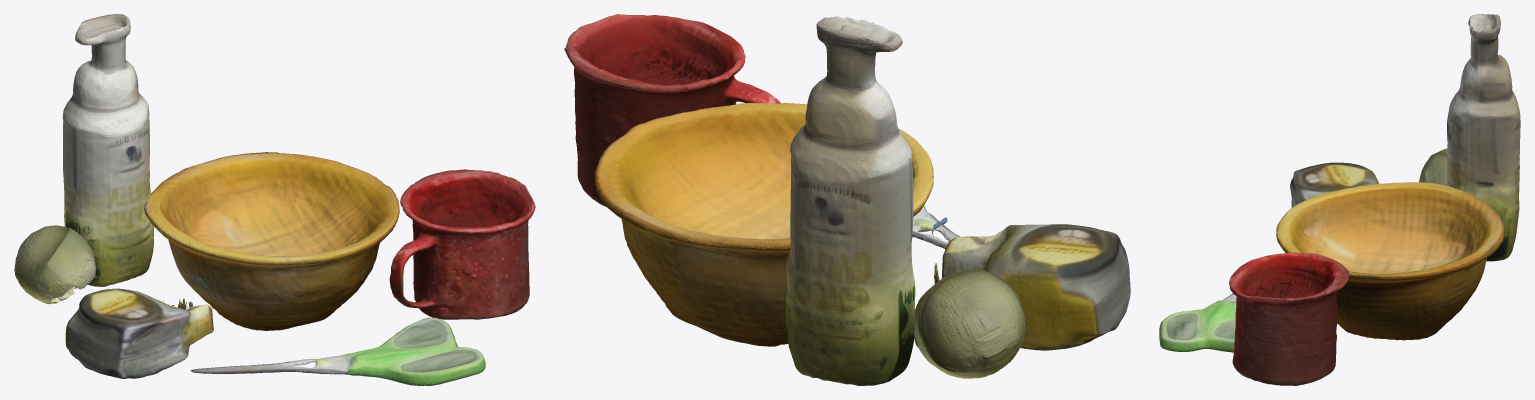
3 views of the same model, side by side, from view 1: azimuth 30°, elevation 25°; view 2: azimuth 150°, elevation 25°; view 3: azimuth 270°, elevation 25° (orthographic). The views are drawn at different scales.
Parts seen in each view (by area): view 1: 2, 1, 0, 5, 3, 4; view 2: 1, 2, 0, 5, 4, 3; view 3: 2, 0, 1, 3, 5, 4.
Boxes of the visible parts, box(x1,y1,x2,y2) form: 2: box(144, 152, 399, 330); 1: box(62, 14, 153, 286); 0: box(389, 169, 535, 319); 5: box(65, 277, 213, 378); 3: box(190, 317, 485, 385); 4: box(14, 225, 96, 304); 1: box(786, 16, 915, 385); 2: box(594, 102, 933, 346); 0: box(564, 14, 780, 206); 5: box(931, 217, 1130, 350); 4: box(912, 269, 1025, 378); 3: box(912, 206, 960, 248); 2: box(1276, 182, 1504, 340); 0: box(1229, 252, 1349, 385); 1: box(1447, 14, 1520, 261); 3: box(1159, 253, 1285, 352); 5: box(1290, 162, 1379, 207); 4: box(1419, 148, 1447, 184).
Size of the model in its own units: 0.312 by 0.2207 by 0.259.
6 materials, 6 textured.
